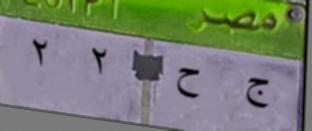2: (27, 31, 50, 69), (87, 46, 113, 78)
7aa: (173, 64, 202, 101)
jeem: (244, 73, 270, 112)
